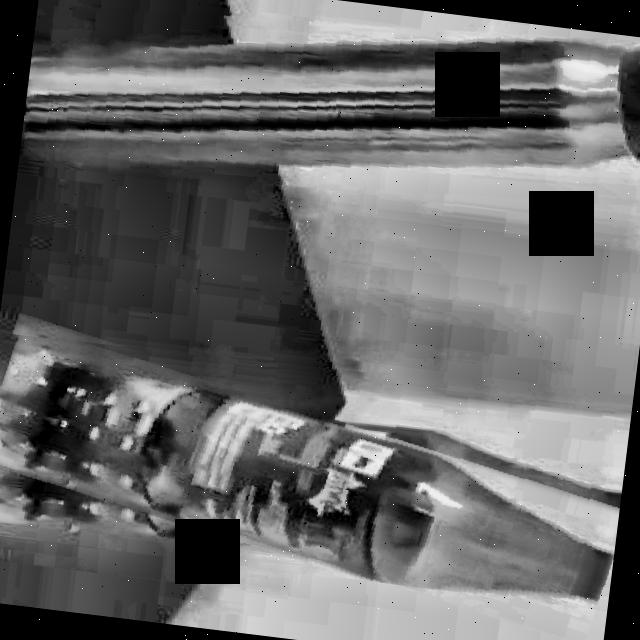bottle: (0, 332, 614, 608), (21, 33, 640, 167)
